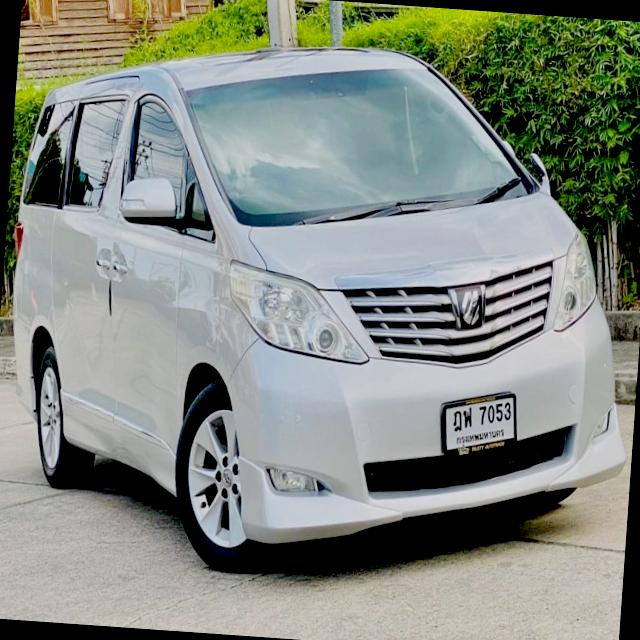license_plate: (434, 383, 522, 464)
